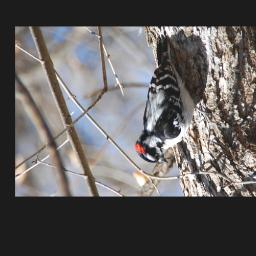Woodpecker: (132, 35, 197, 167)
